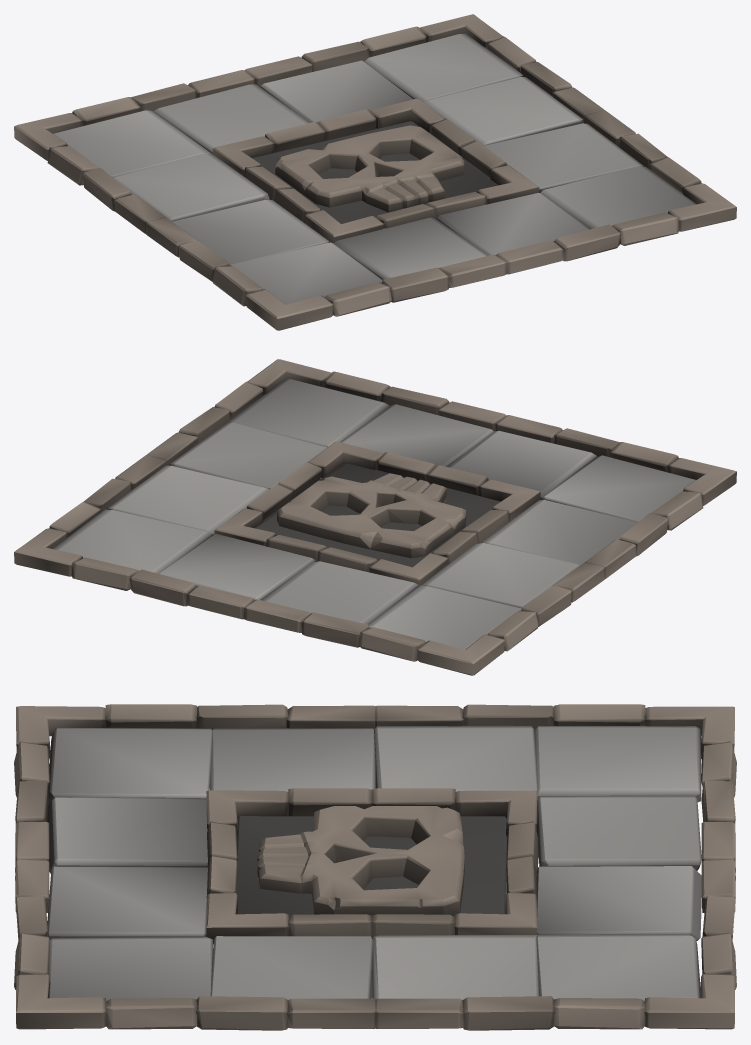
Rendered from floor_decoration_C.FBX.
3 views of the same model, one above another, from view 1: azimuth 30°, elevation 25°; view 2: azimuth 150°, elevation 25°; view 3: azimuth 270°, elevation 25° (orthographic). The views are drawn at different scales.
Parts seen in each view (by area): view 1: floor_decoration_C; view 2: floor_decoration_C; view 3: floor_decoration_C.
Part boxes in pixels (x1=…): floor_decoration_C: x1=14, y1=14, x2=736, y2=330; floor_decoration_C: x1=14, y1=359, x2=736, y2=675; floor_decoration_C: x1=14, y1=704, x2=736, y2=1030.
Size of the model in its own units: 4.11 by 0.1847 by 4.08.
